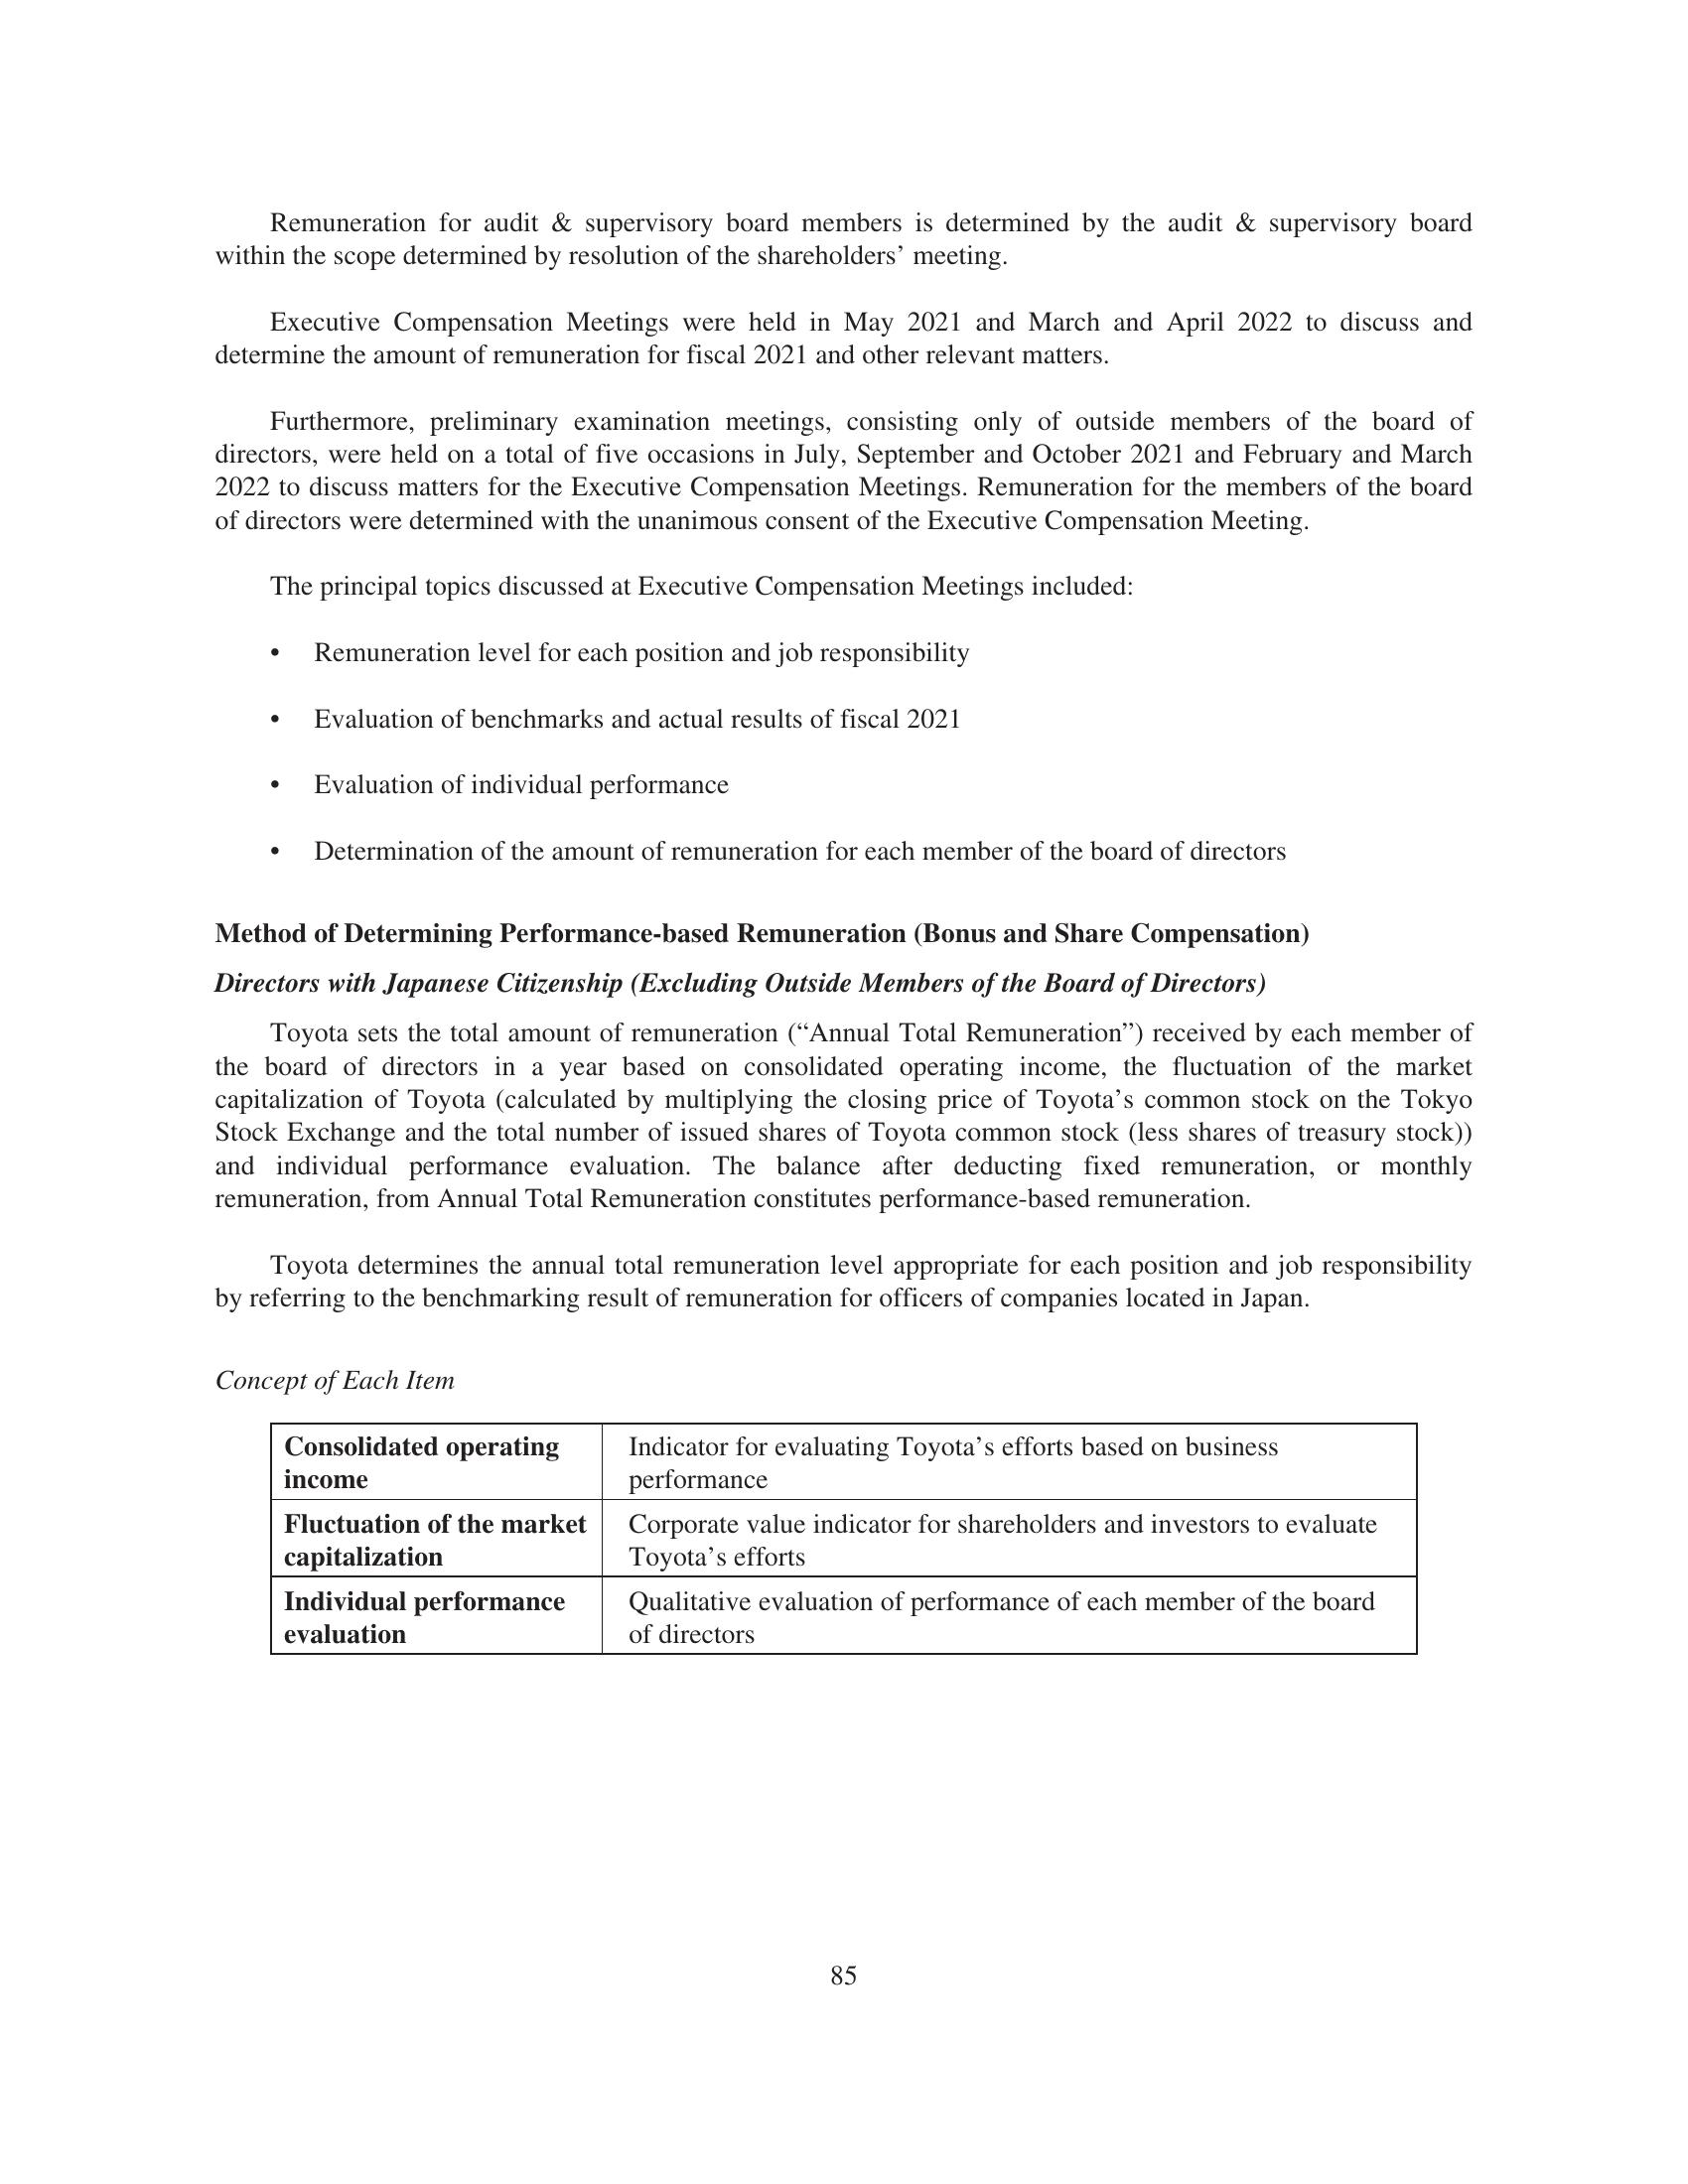Footer: (0, 1941, 1688, 2184)
Header: (0, 0, 1688, 195)
Table: (270, 1413, 1415, 1661)
